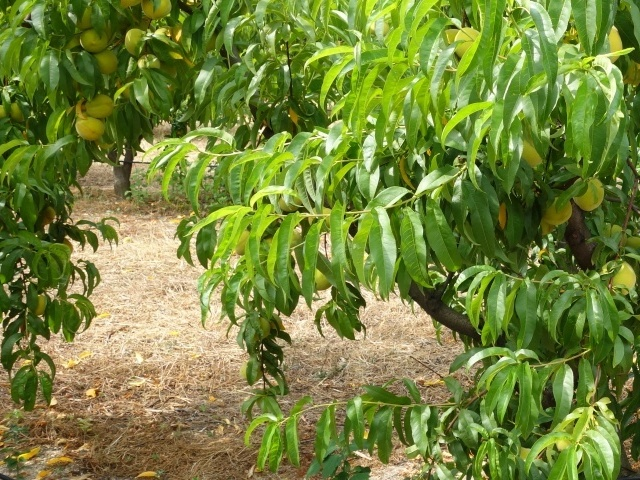peach: (597, 257, 638, 295), (568, 175, 606, 212), (536, 192, 575, 228), (72, 26, 113, 57), (69, 114, 109, 143), (450, 21, 481, 57), (82, 92, 119, 121), (87, 48, 120, 79), (119, 27, 150, 57), (306, 265, 334, 298), (71, 8, 102, 35), (137, 1, 174, 22), (29, 291, 52, 319), (5, 101, 26, 125)
